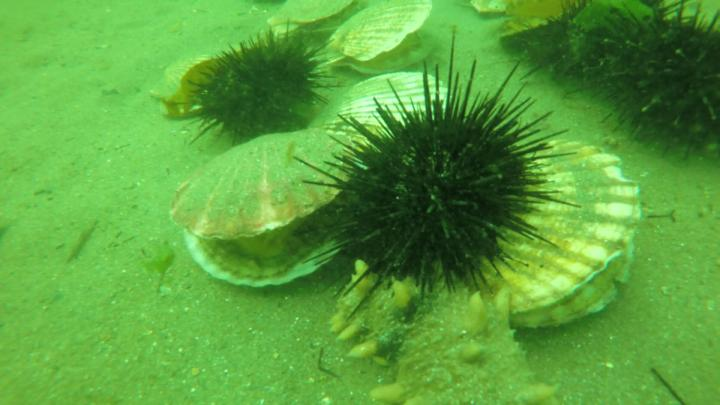echinus: (309, 61, 562, 303), (599, 3, 720, 168), (185, 28, 324, 147)
holothurian: (335, 260, 570, 405)
scallop: (163, 123, 364, 291), (497, 128, 647, 335), (328, 65, 454, 149), (330, 1, 439, 73), (151, 48, 225, 119), (267, 2, 358, 42)
